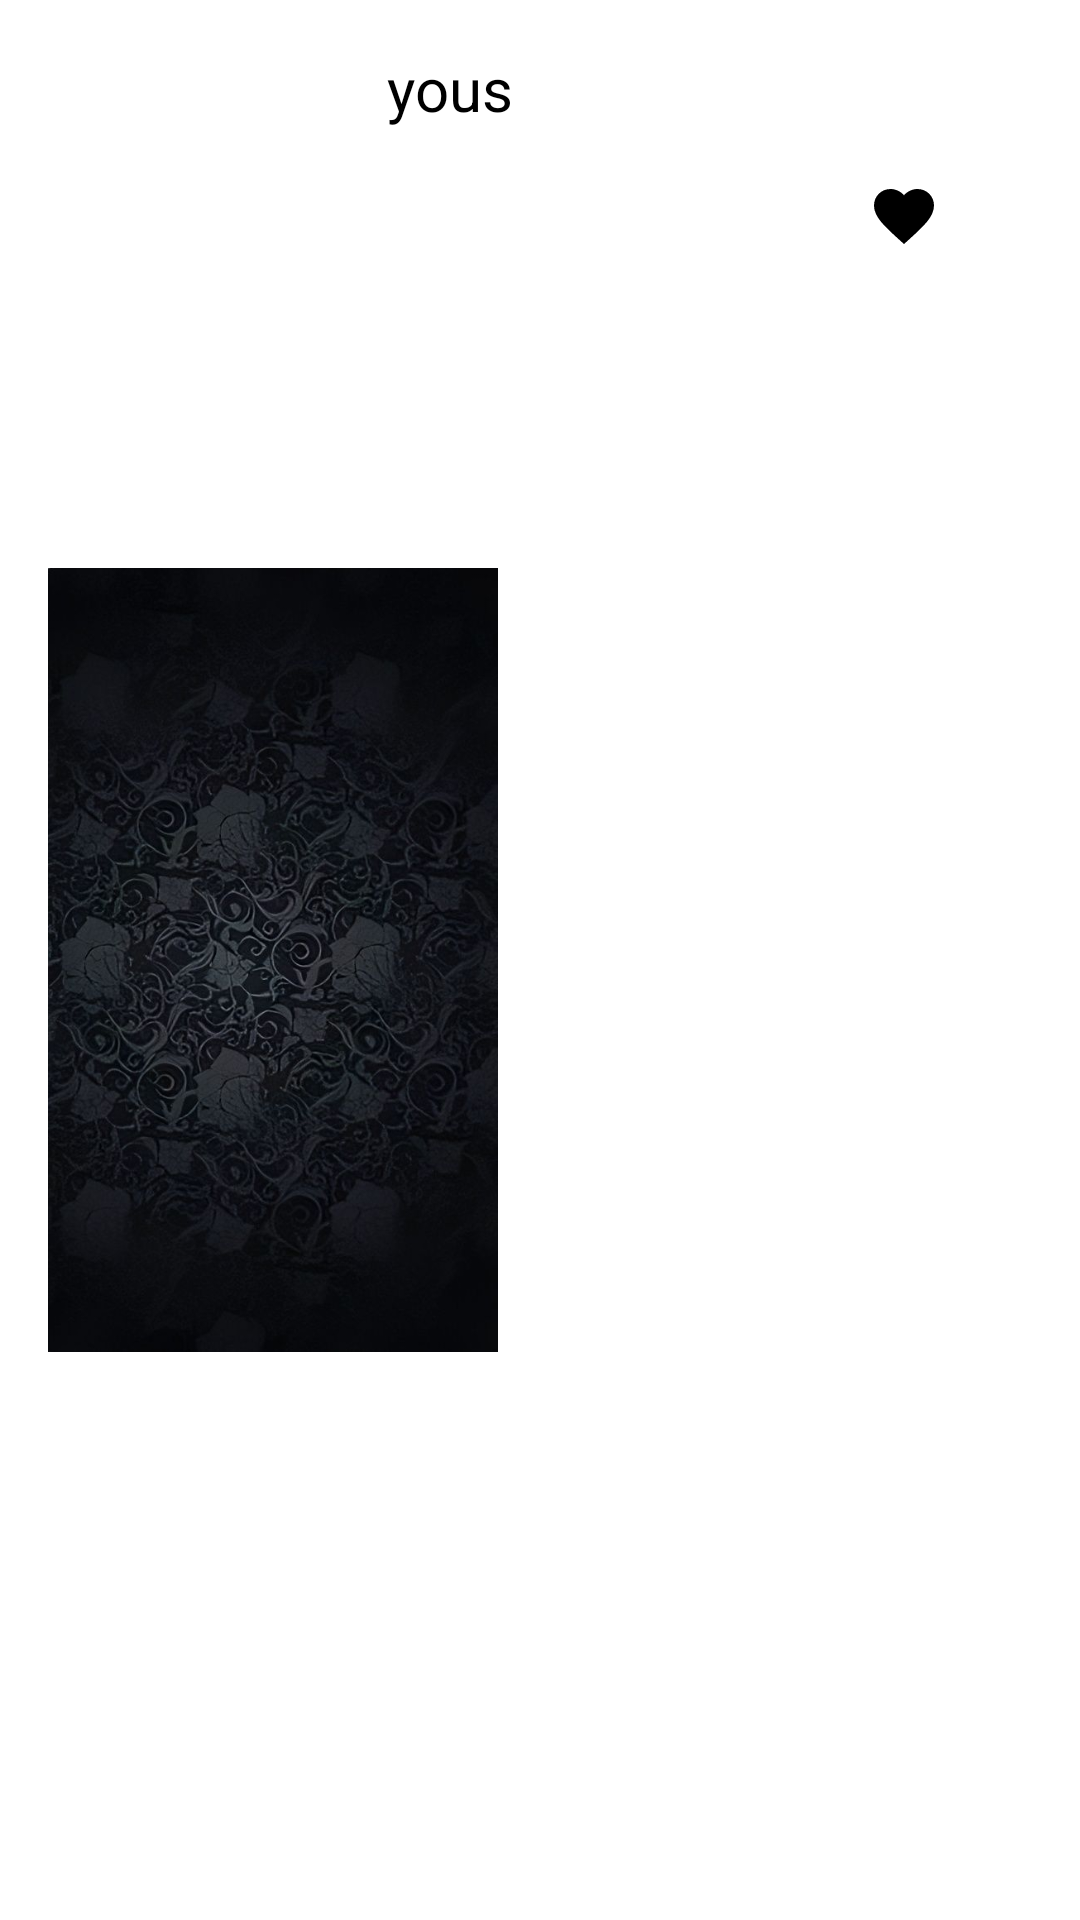

Icons on this 1080*1920 Android screen, each with its box as (x1, y1, x2, y2):
favorite: (874, 189, 934, 244)
